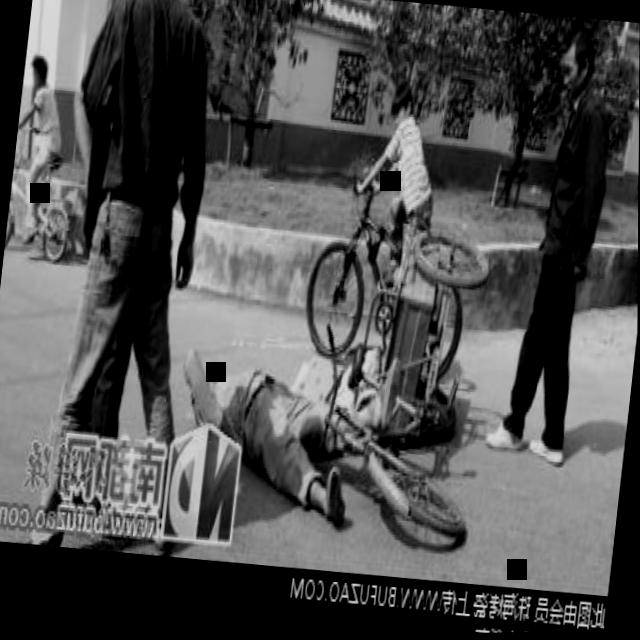Fall-Detected: (164, 307, 383, 532)
